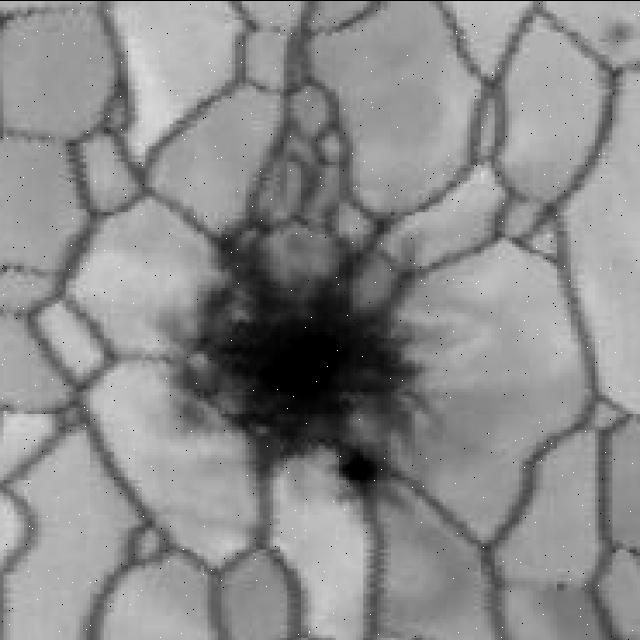good_void: (163, 211, 447, 505)
